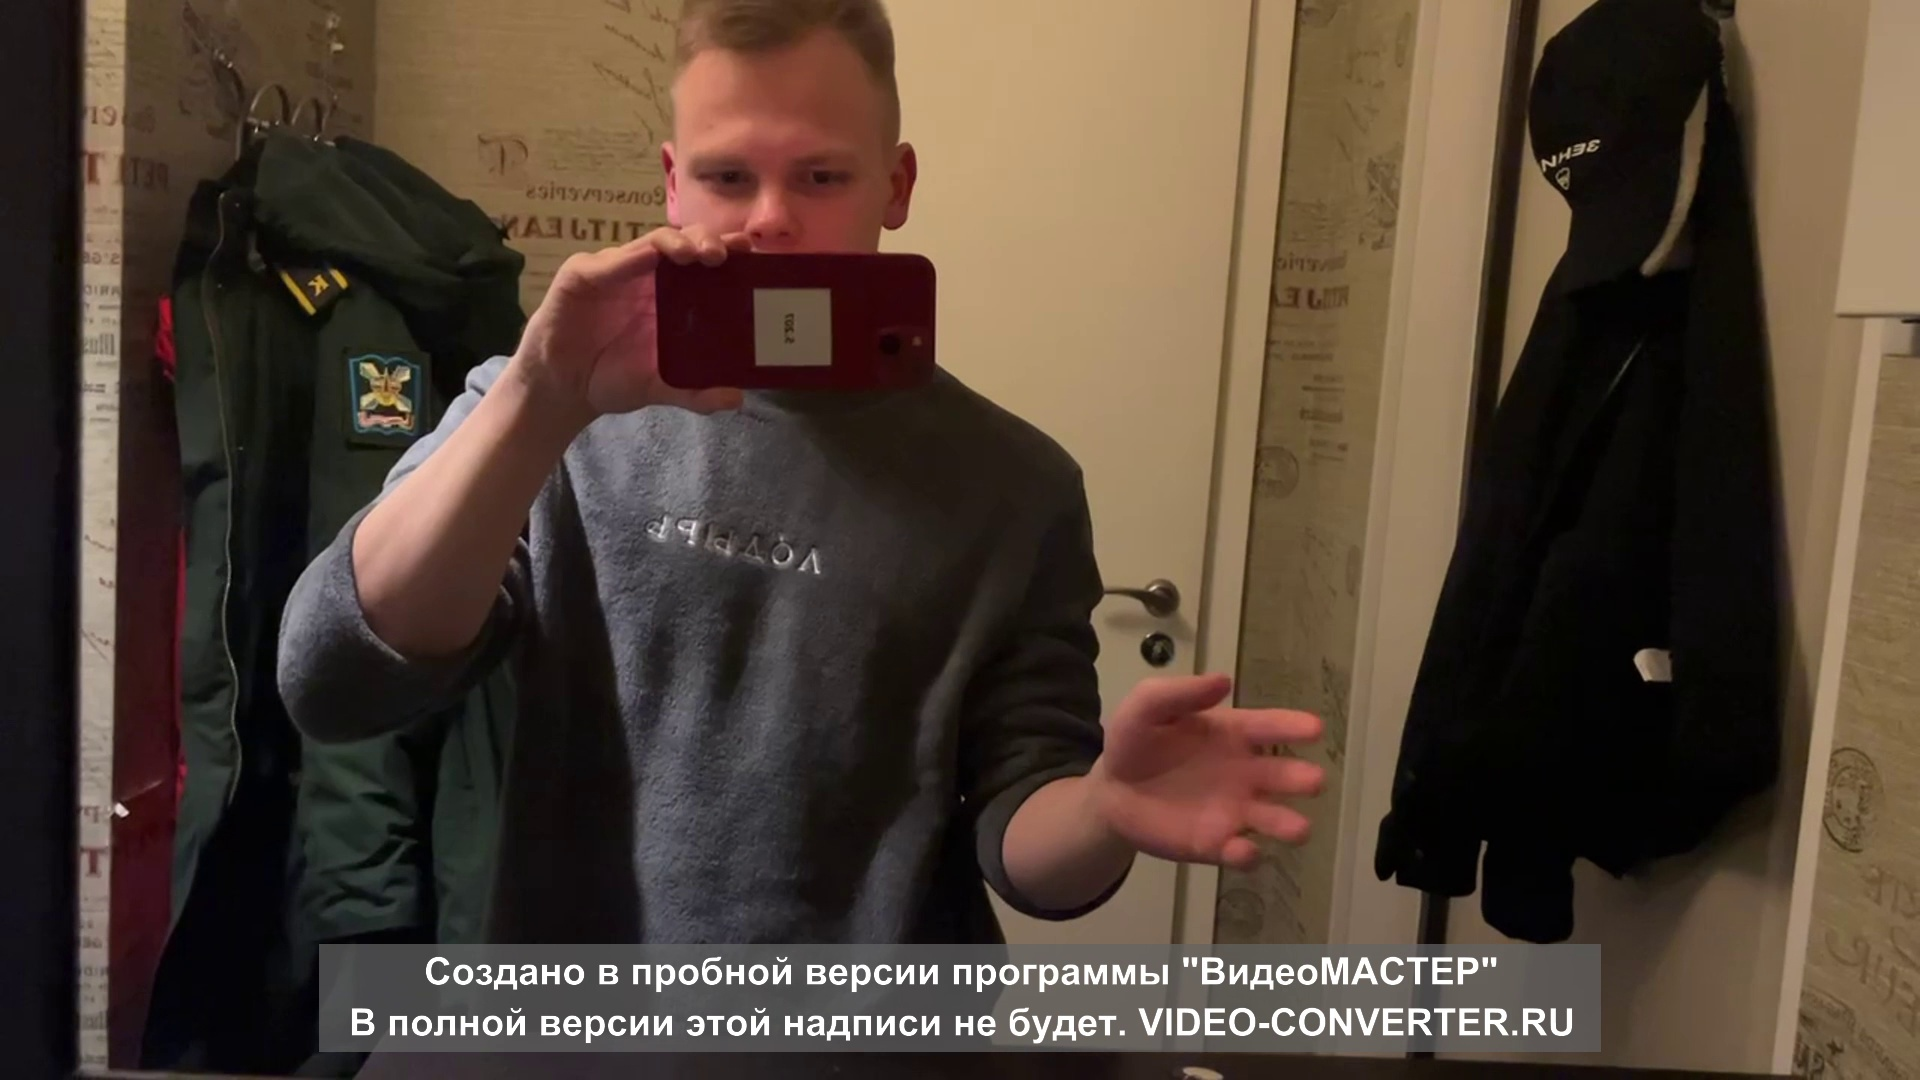Ладонь: (1101, 675, 1325, 869)
